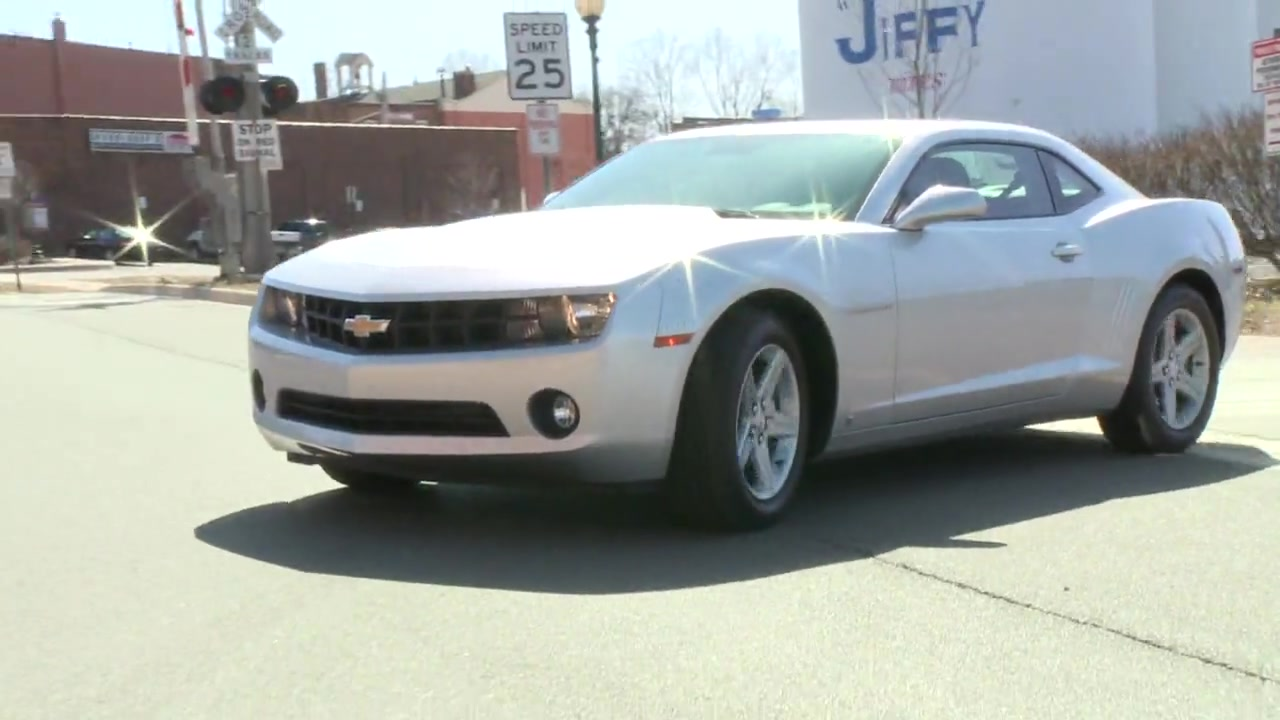car: (242, 107, 1254, 523)
